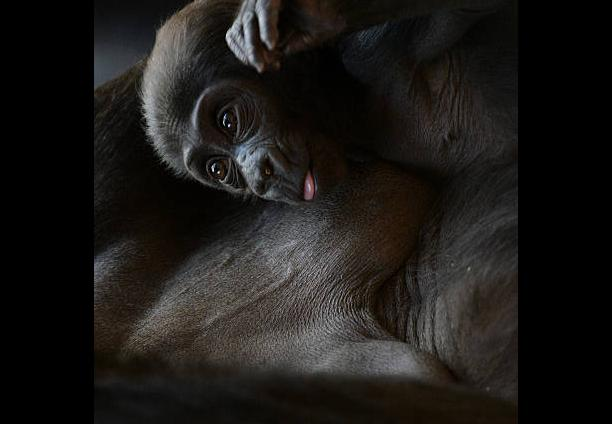gorille_Autres: (94, 0, 514, 257)
